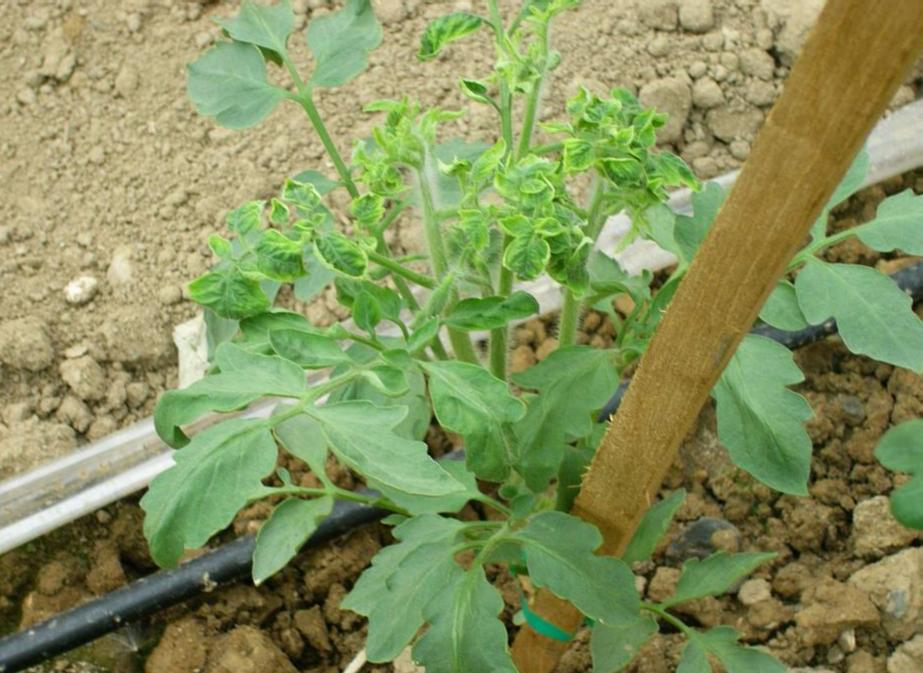Tomato leaf: (146, 414, 277, 579), (281, 377, 450, 490), (506, 333, 628, 480), (719, 329, 821, 491), (520, 509, 644, 632), (807, 250, 923, 375), (351, 539, 465, 662), (412, 559, 525, 673), (290, 0, 384, 106), (184, 38, 286, 134), (249, 488, 337, 582), (846, 168, 923, 273), (659, 541, 779, 605), (268, 323, 356, 373)
